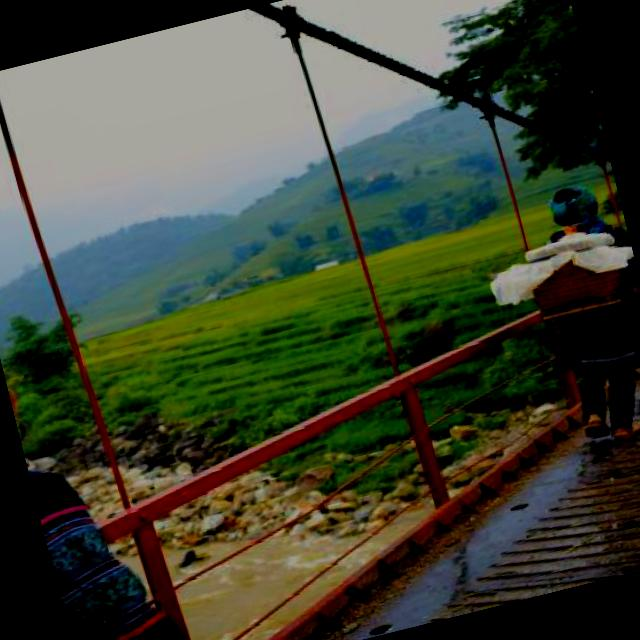Person: (471, 176, 640, 465)
